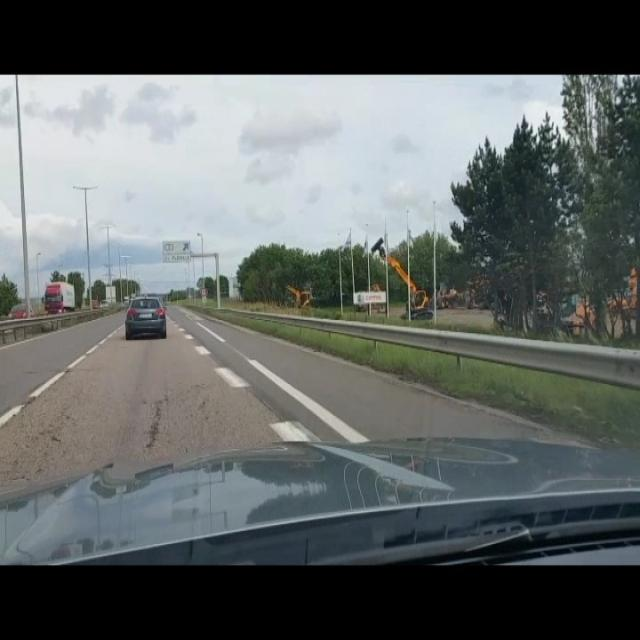direction: (164, 238, 193, 265)
